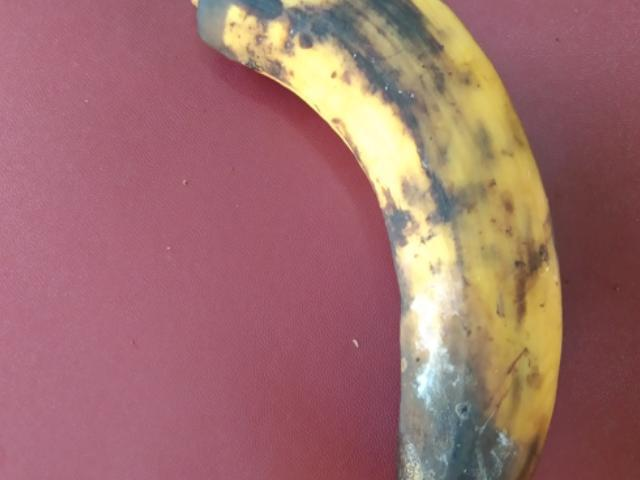rotten: (181, 0, 578, 477)
